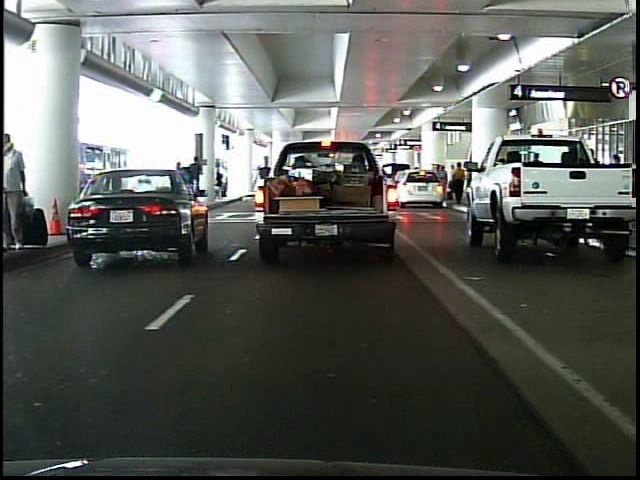person: (6, 130, 38, 250), (191, 154, 205, 185)
